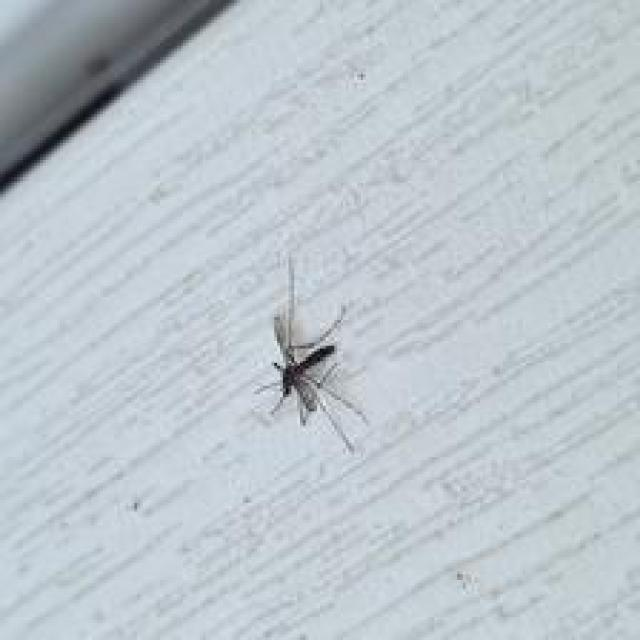Aedes albopictus: (253, 255, 370, 454)
